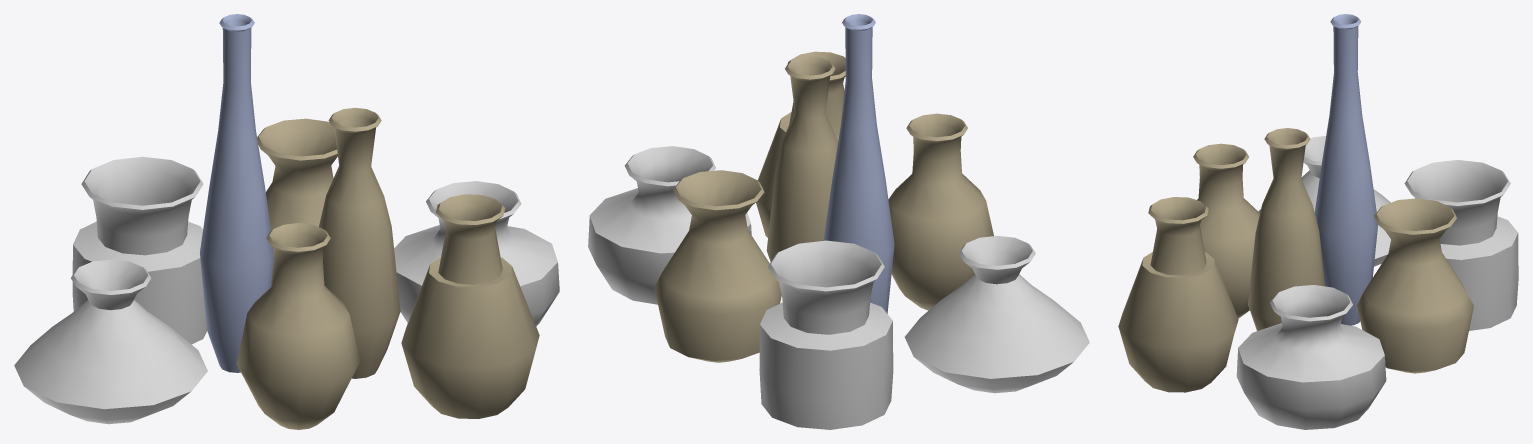
The model's file is Eight Vases.glb.
The picture shows the model from 3 angles, left to right: view 1: azimuth 30°, elevation 25°; view 2: azimuth 150°, elevation 25°; view 3: azimuth 270°, elevation 25°; orthographic projection. The views are drawn at different scales.
Parts seen in each view (by area): view 1: vase.232_vase.1346, vase.159_vase.1387, vase.034_vase.1262, vase.161_vase.1389, vase.065_vase.1293, vase.113_vase.1341, vase.187_vase.1326, vase.193_vase.1295; view 2: vase.065_vase.1293, vase.159_vase.1387, vase.193_vase.1295, vase.034_vase.1262, vase.187_vase.1326, vase.161_vase.1389, vase.113_vase.1341, vase.232_vase.1346; view 3: vase.187_vase.1326, vase.232_vase.1346, vase.193_vase.1295, vase.161_vase.1389, vase.065_vase.1293, vase.113_vase.1341, vase.034_vase.1262, vase.159_vase.1387.
Part boxes in pixels (x1=…): vase.232_vase.1346: x1=401, y1=194, x2=539, y2=418; vase.159_vase.1387: x1=14, y1=259, x2=207, y2=424; vase.034_vase.1262: x1=236, y1=223, x2=360, y2=429; vase.161_vase.1389: x1=200, y1=14, x2=273, y2=372; vase.065_vase.1293: x1=72, y1=156, x2=207, y2=344; vase.113_vase.1341: x1=319, y1=107, x2=400, y2=378; vase.187_vase.1326: x1=394, y1=181, x2=559, y2=326; vase.193_vase.1295: x1=257, y1=118, x2=337, y2=286; vase.065_vase.1293: x1=759, y1=240, x2=893, y2=429; vase.159_vase.1387: x1=904, y1=235, x2=1089, y2=393; vase.193_vase.1295: x1=654, y1=170, x2=781, y2=362; vase.034_vase.1262: x1=888, y1=113, x2=993, y2=310; vase.187_vase.1326: x1=588, y1=146, x2=751, y2=304; vase.161_vase.1389: x1=823, y1=14, x2=894, y2=313; vase.113_vase.1341: x1=766, y1=56, x2=838, y2=261; vase.232_vase.1346: x1=756, y1=51, x2=845, y2=237; vase.187_vase.1326: x1=1236, y1=285, x2=1386, y2=429; vase.232_vase.1346: x1=1118, y1=197, x2=1238, y2=392; vase.193_vase.1295: x1=1357, y1=198, x2=1473, y2=373; vase.161_vase.1389: x1=1314, y1=14, x2=1377, y2=325; vase.065_vase.1293: x1=1404, y1=160, x2=1518, y2=330; vase.113_vase.1341: x1=1248, y1=128, x2=1324, y2=330; vase.034_vase.1262: x1=1193, y1=143, x2=1259, y2=318; vase.159_vase.1387: x1=1258, y1=136, x2=1390, y2=266.
Bounding box in the file's own units: 11.49 × 7.44 × 8.96.
